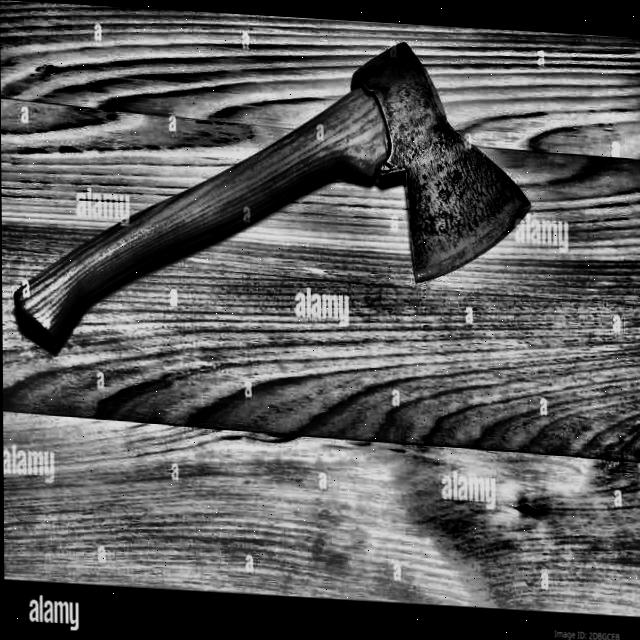kapak: (4, 36, 551, 363)
